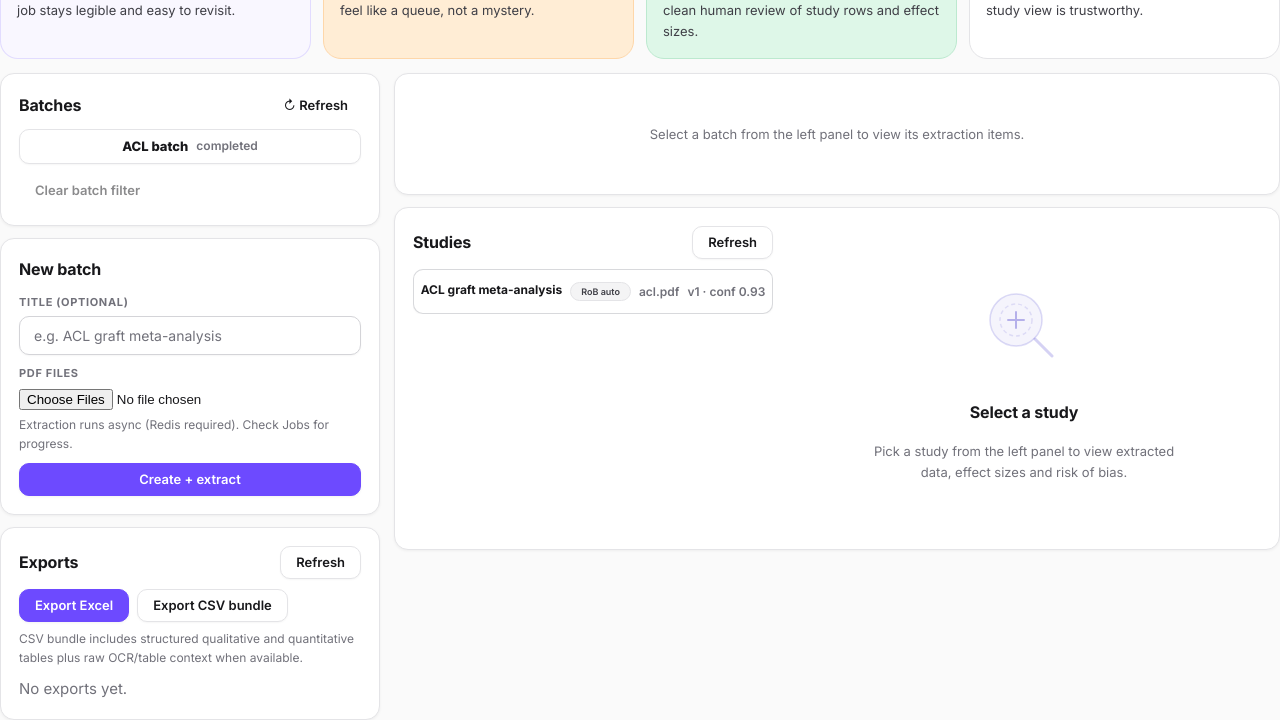
Test case: MetaPage › exports to Excel without errors
(page scrolled)
Click the button "Export Excel". click: (74, 606)
box: top-left (19, 589), bottom-right (129, 622)
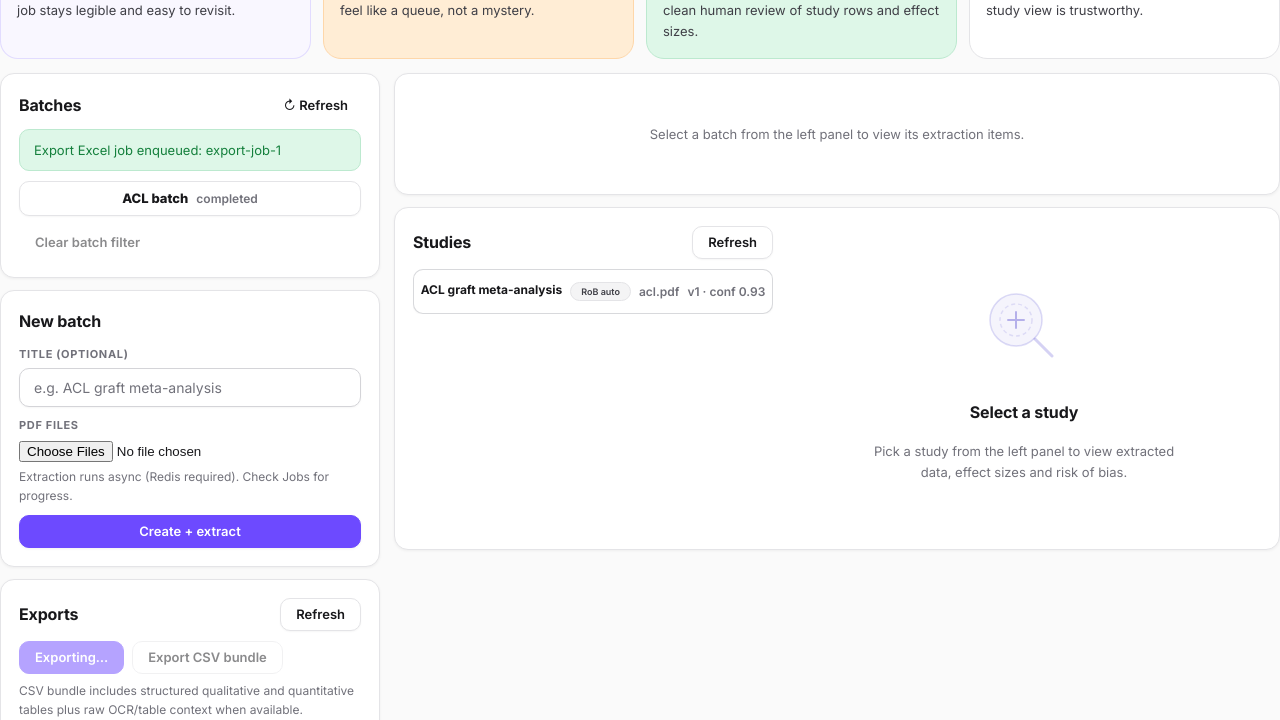
Check: the text "Export Excel job enqueued: export-job-1" is shown, box top-left (19, 129), bottom-right (361, 171)
